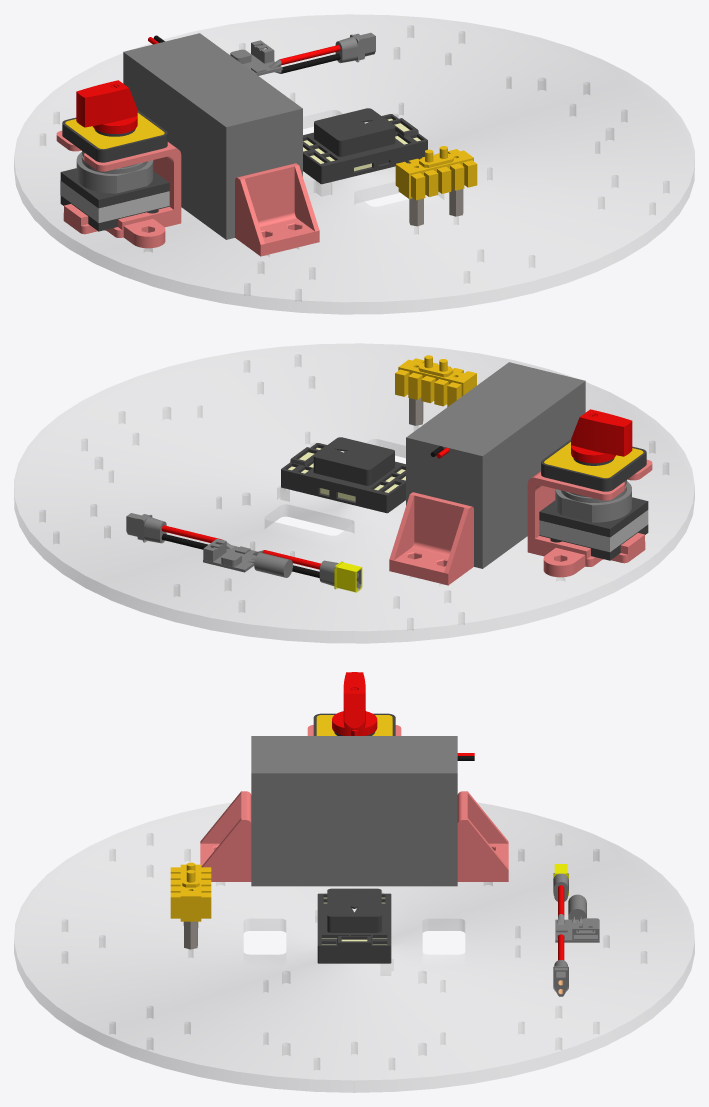
The picture shows the model from 3 angles, top to bottom: view 1: azimuth 30°, elevation 25°; view 2: azimuth 150°, elevation 25°; view 3: azimuth 270°, elevation 25°; orthographic projection.
Visible parts, largest first — view 1: alpha3_electronics_plate-1 - Part_clonedChild, alpha3_electronics_plate-1 - Part, battery_foxtech-1 - Part, PIXHAWK 6X MINI-1 - Part, battery_support-1 - Part, switch_mount-1 - Part, tarot_distributor-1 2 - Part, 9-1 - Part, PM02D-1 - Part, 4-1 - Part, 7-1 - Part, 2-1 - Part (+3 smaller); view 2: alpha3_electronics_plate-1 - Part_clonedChild, alpha3_electronics_plate-1 - Part, battery_foxtech-1 - Part, PIXHAWK 6X MINI-1 - Part, battery_support-2 - Part, switch_mount-1 - Part, PM02D-1 - Part, tarot_distributor-1 2 - Part, 9-1 - Part, 4-1 - Part, 7-1 - Part, 2-1 - Part (+6 smaller); view 3: alpha3_electronics_plate-1 - Part_clonedChild, alpha3_electronics_plate-1 - Part, battery_foxtech-1 - Part, PIXHAWK 6X MINI-1 - Part, battery_support-2 - Part, battery_support-1 - Part, tarot_distributor-1 2 - Part, PM02D-1 - Part, 9-1 - Part, 8-1 - Part.
Boxes of the visible parts, x1=… form: alpha3_electronics_plate-1 - Part_clonedChild: x1=14, y1=14, x2=694, y2=314; alpha3_electronics_plate-1 - Part: x1=14, y1=15, x2=694, y2=313; battery_foxtech-1 - Part: x1=123, y1=33, x2=302, y2=239; PIXHAWK 6X MINI-1 - Part: x1=303, y1=108, x2=427, y2=184; battery_support-1 - Part: x1=235, y1=163, x2=319, y2=256; switch_mount-1 - Part: x1=56, y1=130, x2=181, y2=248; tarot_distributor-1 2 - Part: x1=395, y1=146, x2=477, y2=200; 9-1 - Part: x1=76, y1=80, x2=137, y2=133; PM02D-1 - Part: x1=230, y1=32, x2=375, y2=75; 4-1 - Part: x1=76, y1=152, x2=153, y2=193; 7-1 - Part: x1=62, y1=110, x2=167, y2=162; 2-1 - Part: x1=60, y1=180, x2=169, y2=222; alpha3_electronics_plate-1 - Part_clonedChild: x1=14, y1=343, x2=694, y2=643; alpha3_electronics_plate-1 - Part: x1=14, y1=344, x2=694, y2=642; battery_foxtech-1 - Part: x1=406, y1=362, x2=585, y2=568; PIXHAWK 6X MINI-1 - Part: x1=281, y1=437, x2=405, y2=513; battery_support-2 - Part: x1=389, y1=492, x2=473, y2=585; switch_mount-1 - Part: x1=527, y1=459, x2=652, y2=577; PM02D-1 - Part: x1=126, y1=513, x2=361, y2=590; tarot_distributor-1 2 - Part: x1=395, y1=355, x2=476, y2=406; 9-1 - Part: x1=571, y1=409, x2=632, y2=463; 4-1 - Part: x1=555, y1=481, x2=631, y2=522; 7-1 - Part: x1=541, y1=439, x2=646, y2=491; 2-1 - Part: x1=539, y1=510, x2=648, y2=552; alpha3_electronics_plate-1 - Part_clonedChild: x1=14, y1=803, x2=694, y2=1092; alpha3_electronics_plate-1 - Part: x1=14, y1=803, x2=694, y2=1092; battery_foxtech-1 - Part: x1=251, y1=736, x2=457, y2=886; PIXHAWK 6X MINI-1 - Part: x1=317, y1=888, x2=391, y2=963; battery_support-2 - Part: x1=457, y1=791, x2=508, y2=881; battery_support-1 - Part: x1=200, y1=791, x2=251, y2=881; tarot_distributor-1 2 - Part: x1=170, y1=862, x2=211, y2=921; PM02D-1 - Part: x1=553, y1=873, x2=599, y2=996; 9-1 - Part: x1=332, y1=672, x2=377, y2=735; 8-1 - Part: x1=316, y1=715, x2=392, y2=735.
Size of the model in its own units: 0.4 by 0.0925 by 0.3998.
27 materials, 1 textured.
